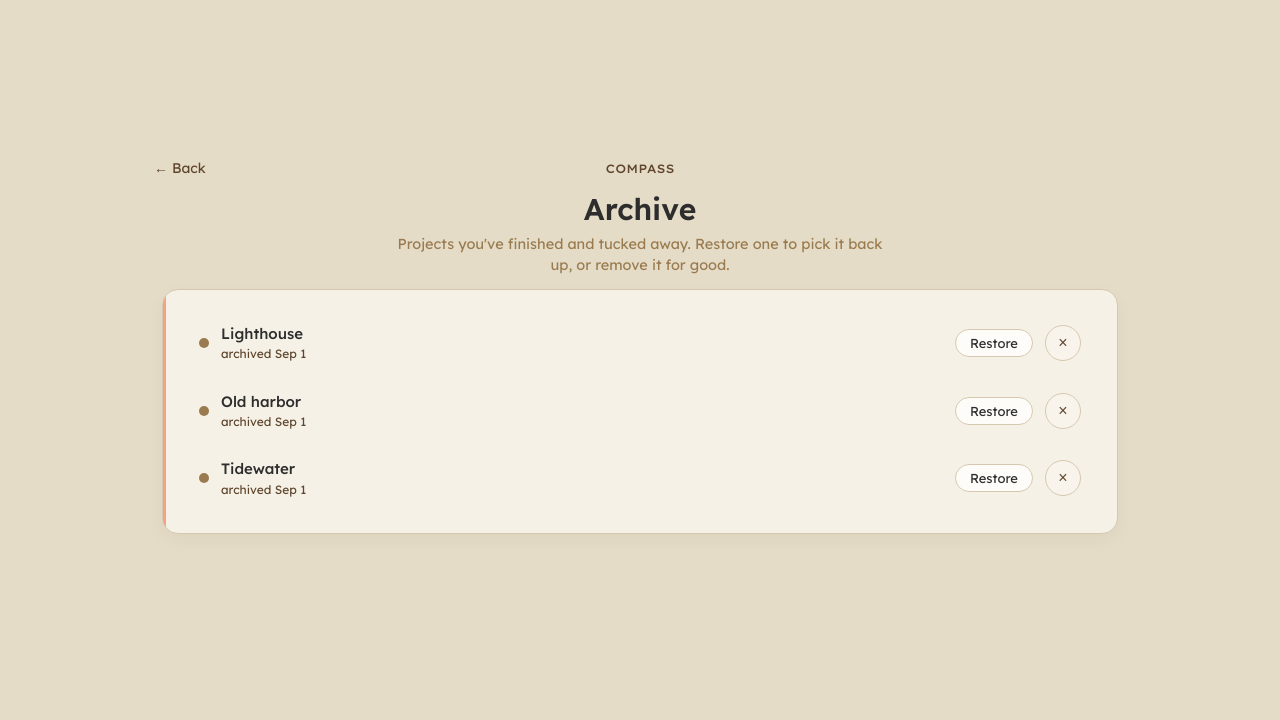
Scenario: overlapping deletes on the archive screen › a list read that answers after a newer one never brings back a deleted row
Later steps or results of the test are not shown.
What coordinates should you click on to do the following:
click the button "×" in the row of "Lighthouse"
I would click on:
 (1063, 343)
Its box is [1045, 325, 1081, 361].
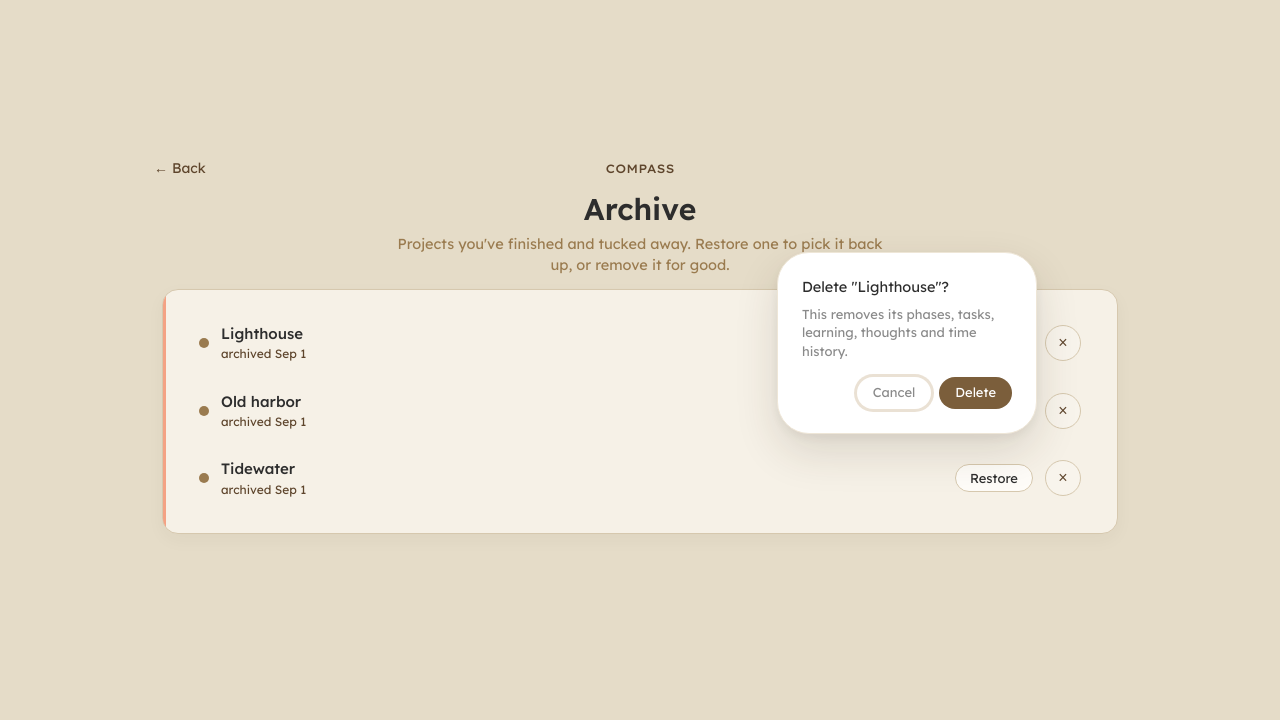
Check: the button "Delete" is shown
What coordinates should you click on to do the following:
click the button "Delete"
I would click on:
 (976, 393)
Its box is [939, 377, 1012, 409].
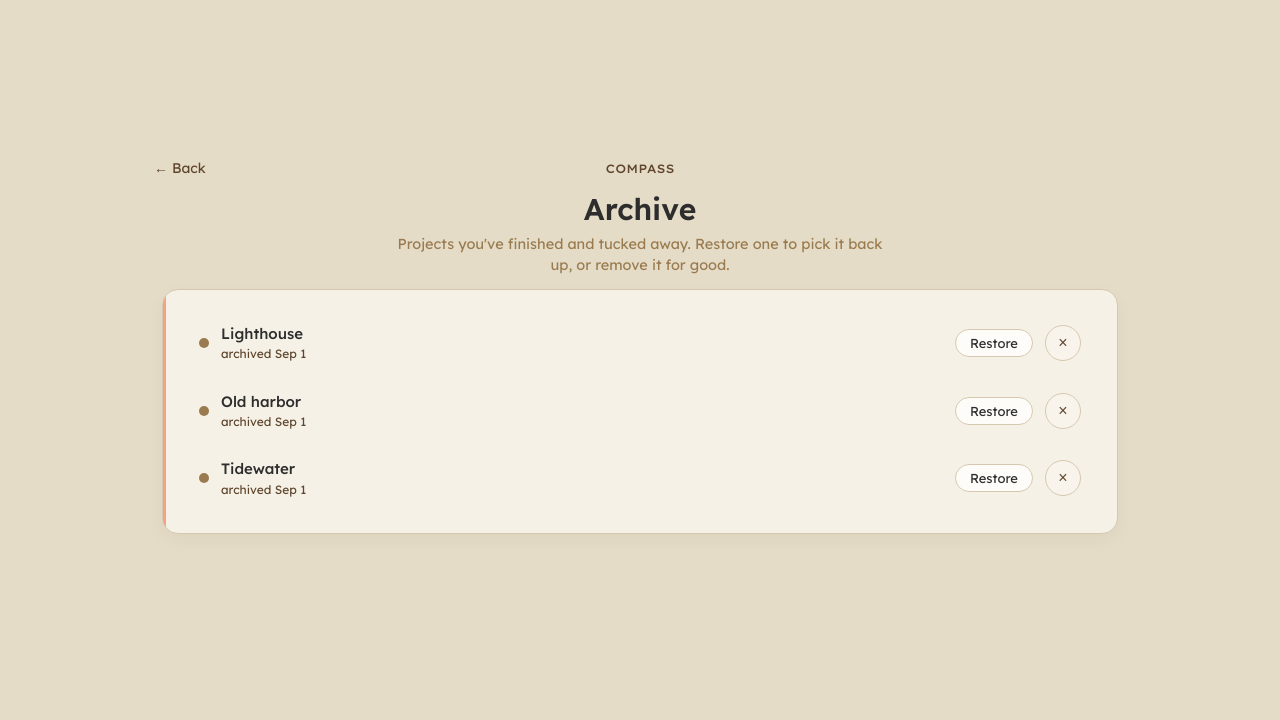
What coordinates should you click on to do the following:
click the button "×" in the row of "Old harbor"
I would click on:
 (1063, 411)
Its box is [1045, 393, 1081, 429].
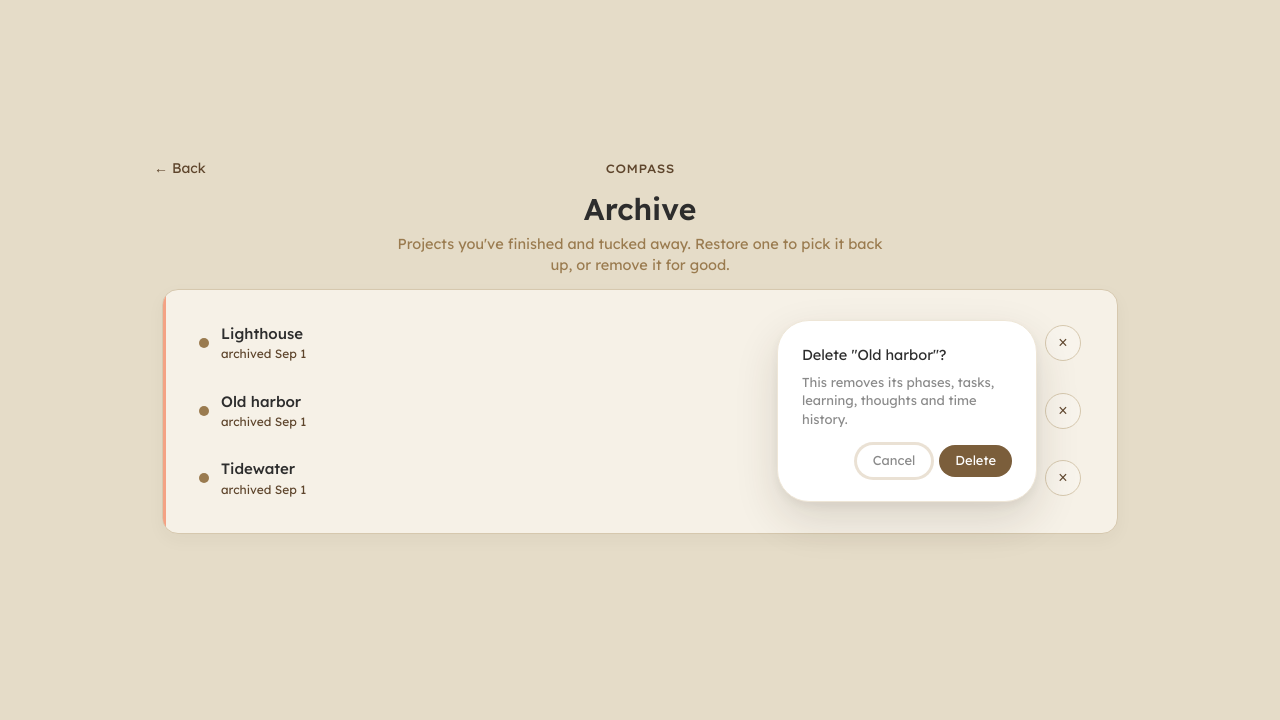
Check: the button "Delete" is shown, box [939, 445, 1012, 477]
